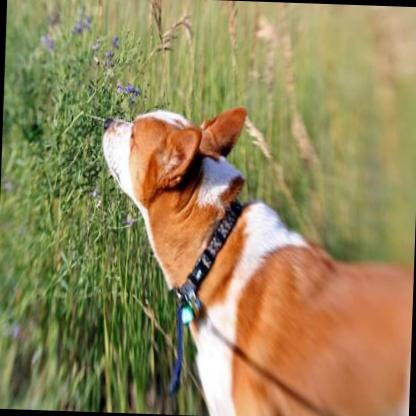basenji: (90, 99, 416, 416)
